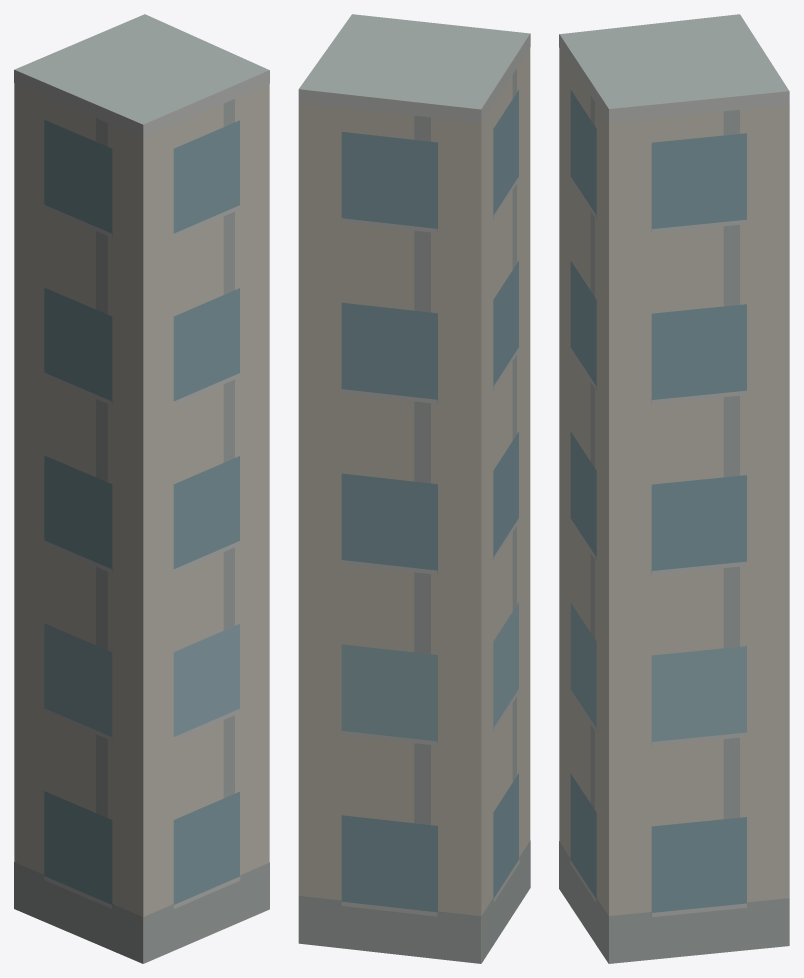
File: survey-upis-32639924.glb
The picture shows the model from 3 angles, left to right: view 1: azimuth 30°, elevation 25°; view 2: azimuth 150°, elevation 25°; view 3: azimuth 270°, elevation 25°; orthographic projection.
Parts seen in each view (by area): view 1: survey-upis-32639924.tmp; view 2: survey-upis-32639924.tmp; view 3: survey-upis-32639924.tmp.
Boxes of the visible parts, <box> form: survey-upis-32639924.tmp: <box>14,14,269,963</box>; survey-upis-32639924.tmp: <box>298,14,530,963</box>; survey-upis-32639924.tmp: <box>559,14,789,963</box>.
Bounding box in the file's own units: 3.65 × 15.25 × 3.73.
